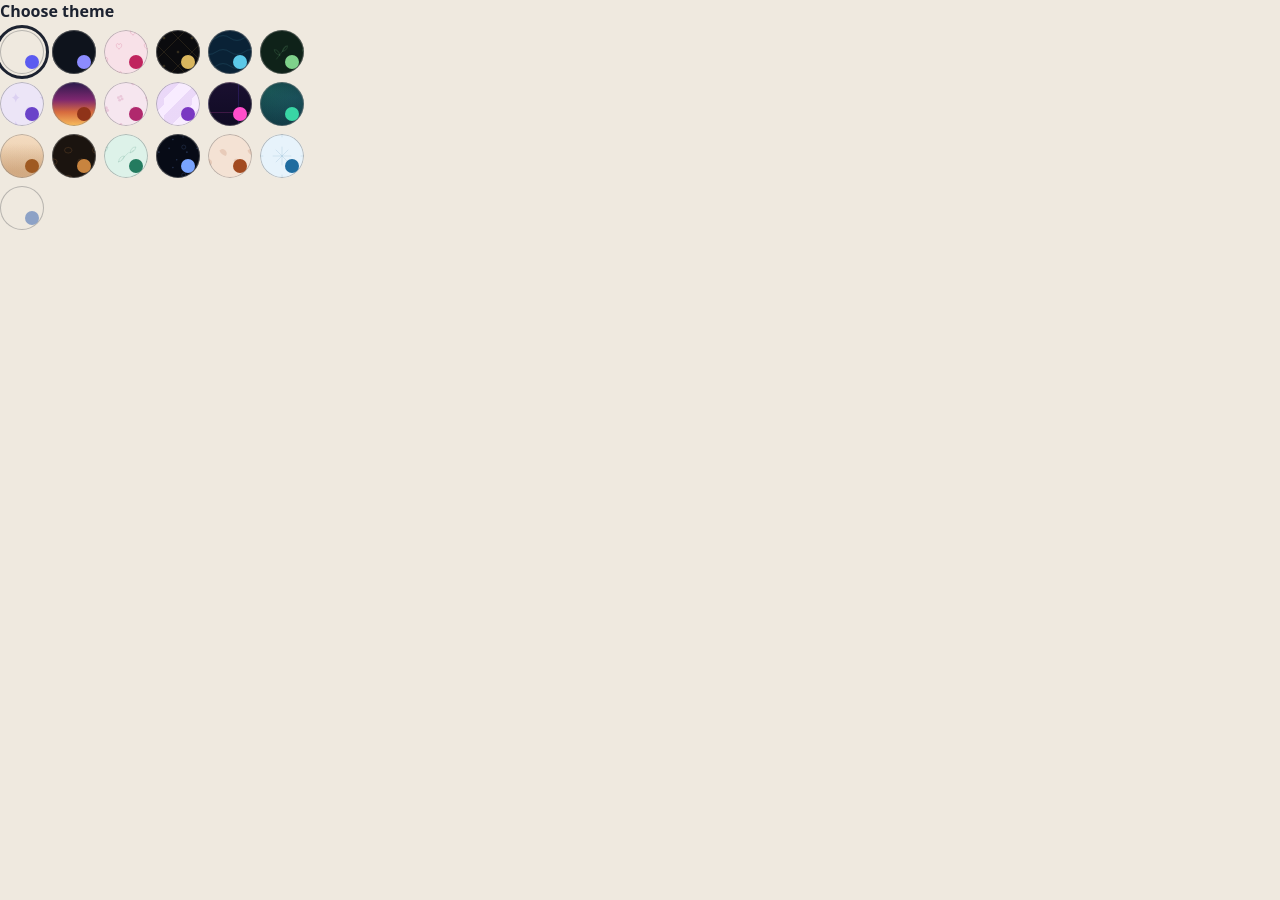
Scenario: ThemePicker › renders every theme as a radio and applies the choice live
Click the radio button named "Hearts".
click(126, 52)  # box [104,30,148,74]
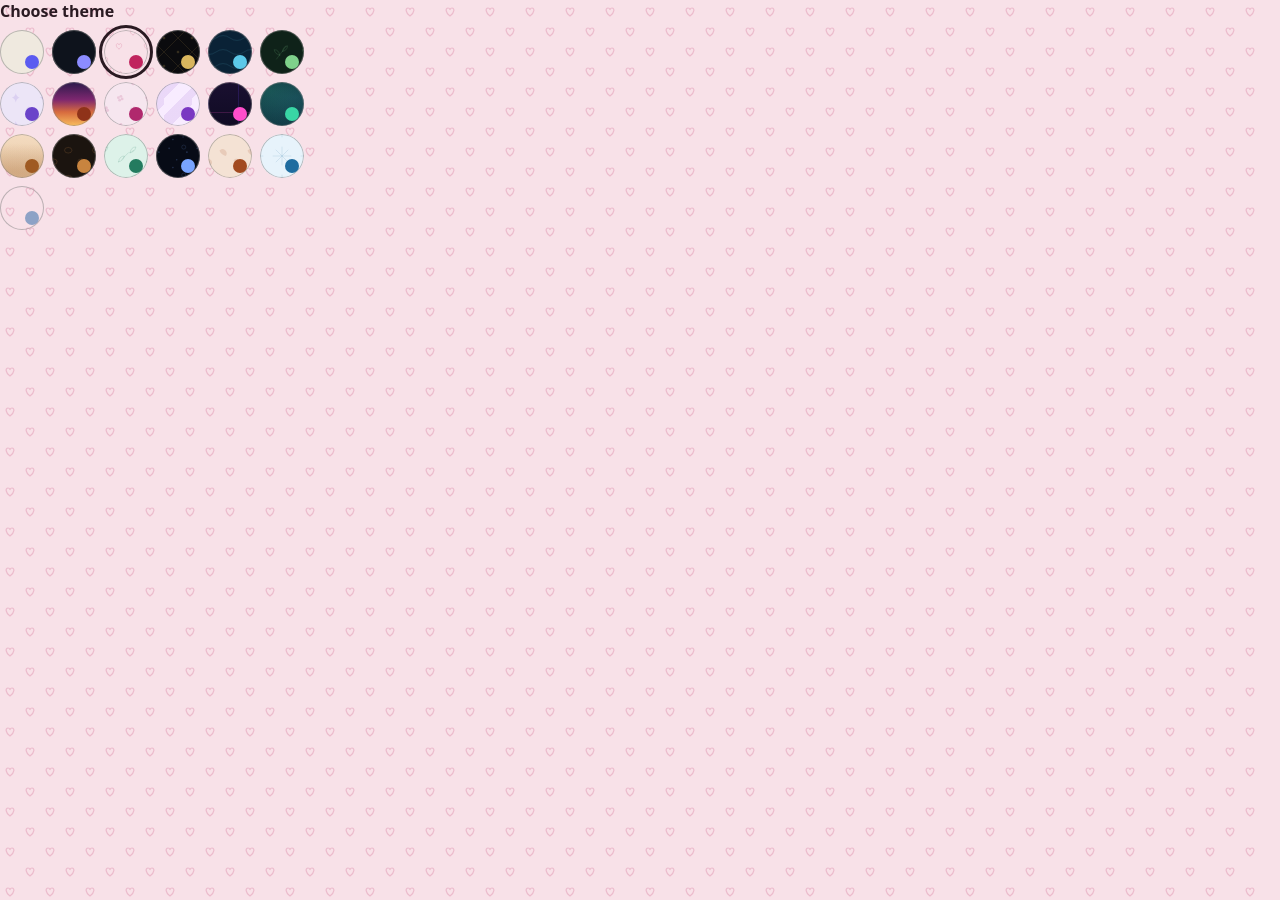
Result: the radio button named "Hearts" is checked at [104,30,148,74]
